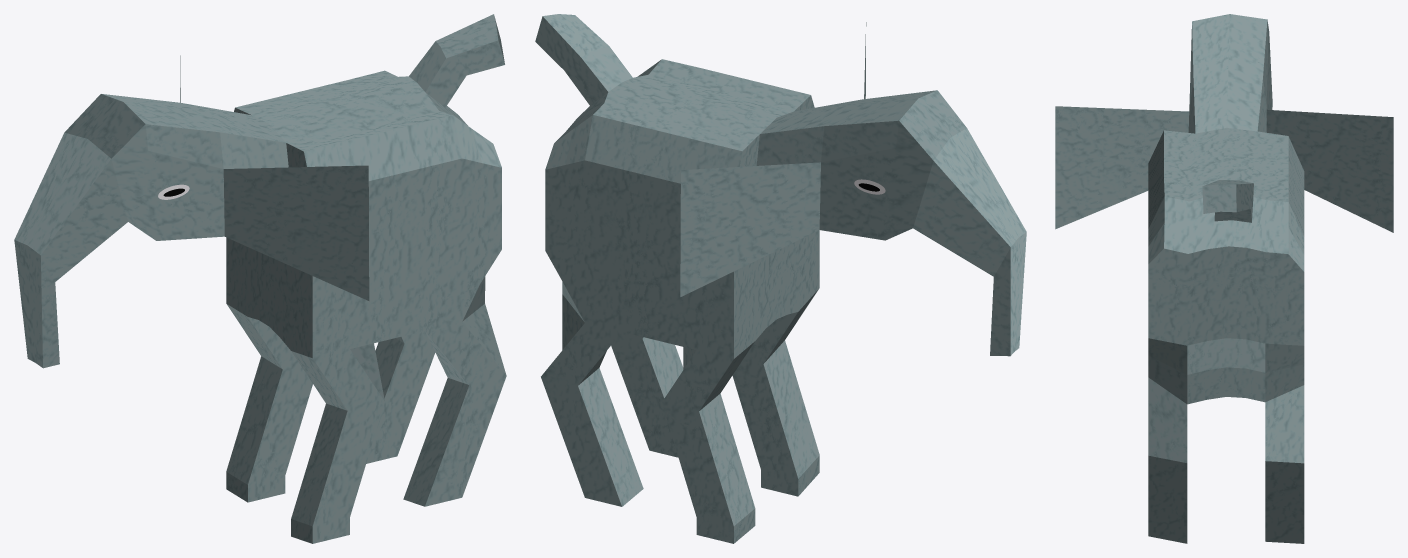
Rendered from elephant-goodgood.glb.
The picture shows the model from 3 angles, left to right: view 1: azimuth 30°, elevation 25°; view 2: azimuth 150°, elevation 25°; view 3: azimuth 270°, elevation 25°; orthographic projection. The views are drawn at different scales.
Parts seen in each view (by area): view 1: goodelephant; view 2: goodelephant; view 3: goodelephant.
Part boxes in pixels (x1,y1,x2,y2): goodelephant: [14, 14, 506, 543]; goodelephant: [535, 14, 1026, 543]; goodelephant: [1055, 14, 1393, 543].
Size of the model in its own units: 9.27 by 8.32 by 6.23.
2 materials, 2 textured.
